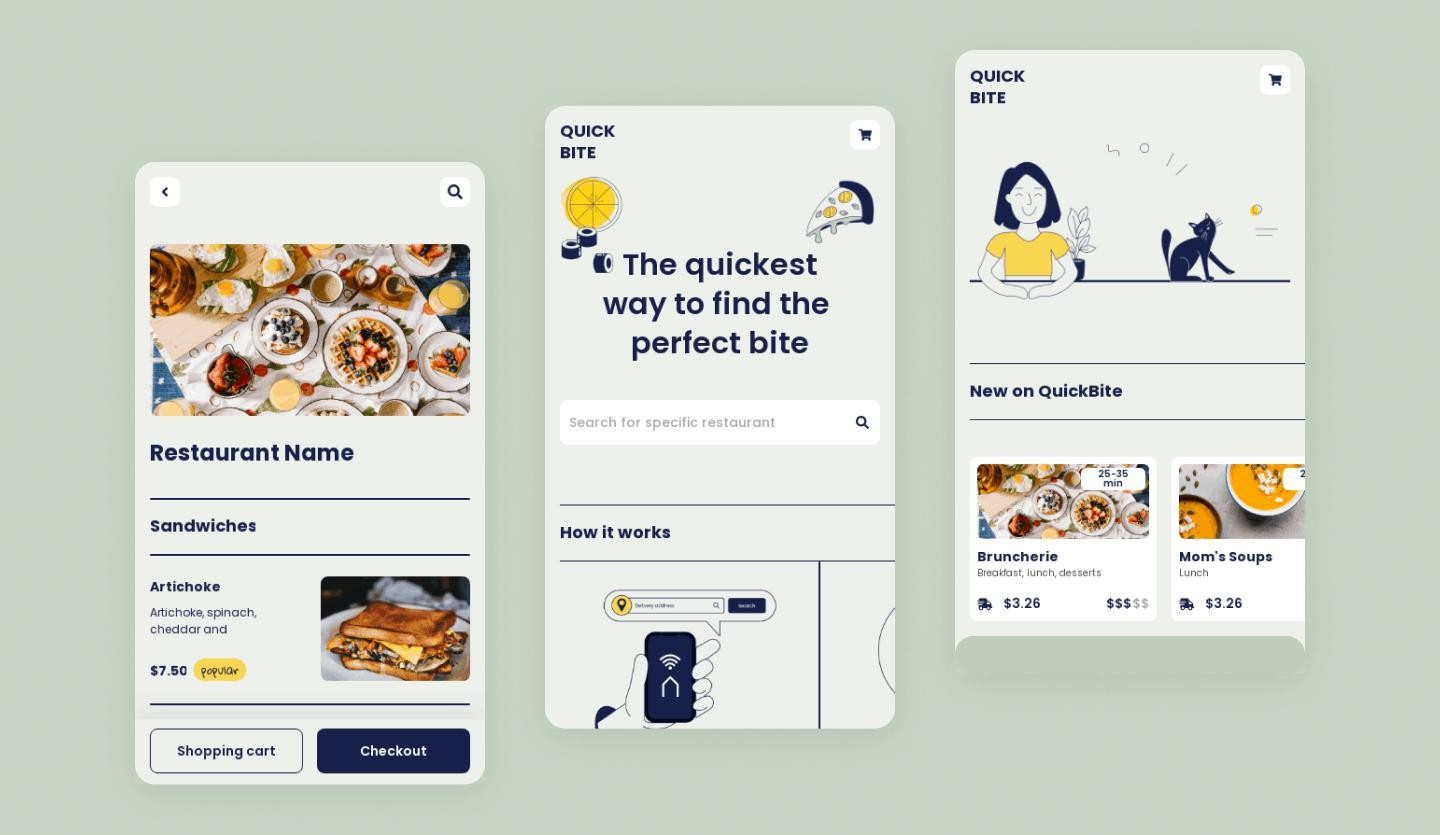button: (317, 729, 472, 775), (151, 729, 303, 773), (730, 598, 767, 614)
icon: (154, 183, 177, 203), (858, 124, 877, 143), (1267, 73, 1285, 89), (448, 187, 464, 201)
input: (560, 399, 881, 450), (631, 599, 725, 613)
label: (145, 437, 363, 471), (150, 515, 265, 538), (968, 384, 1125, 400), (150, 574, 227, 603), (1177, 549, 1277, 566), (977, 550, 1062, 566)
